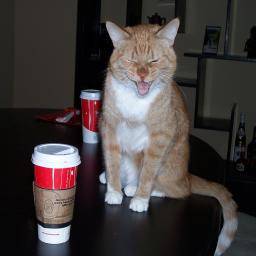catnose: (136, 67, 149, 80)
